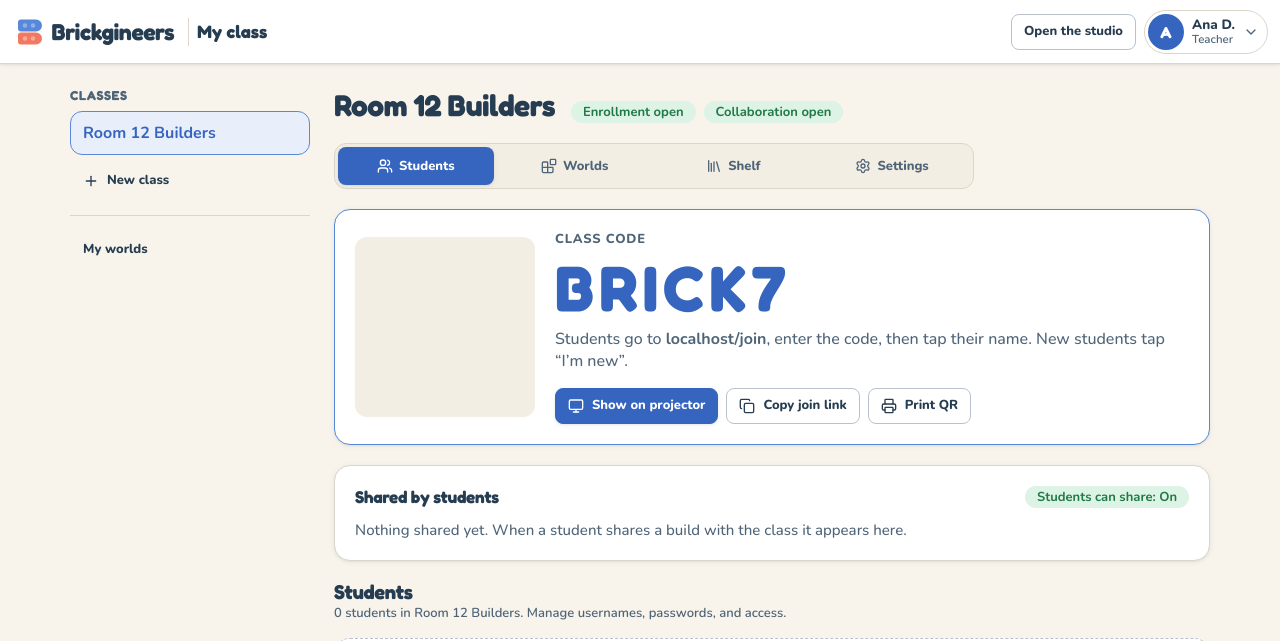
Test case: checks for new bricks by itself while the page is on screen, and not while it is hidden
This screenshot has width=1280, height=641.
Click the radio button labelled "Shelf".
click(733, 166)  # box [656,147,811,185]
Wait 80000 ms
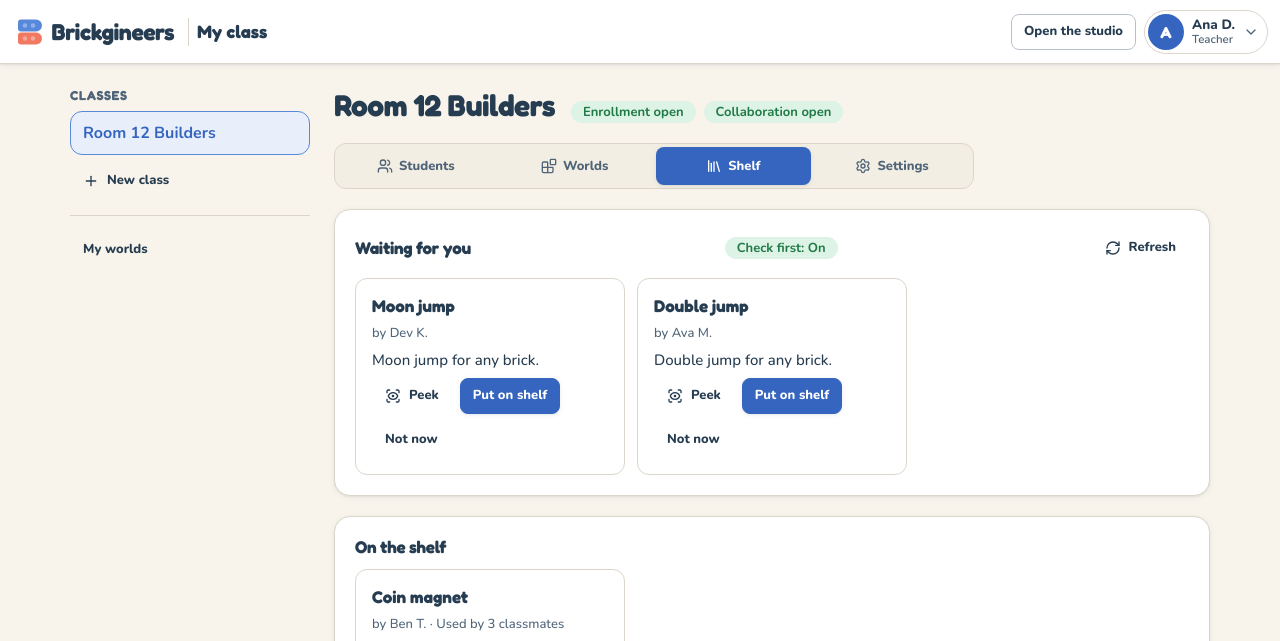
Check: the text "Moon jump" is shown, box [372,295,455,316]
